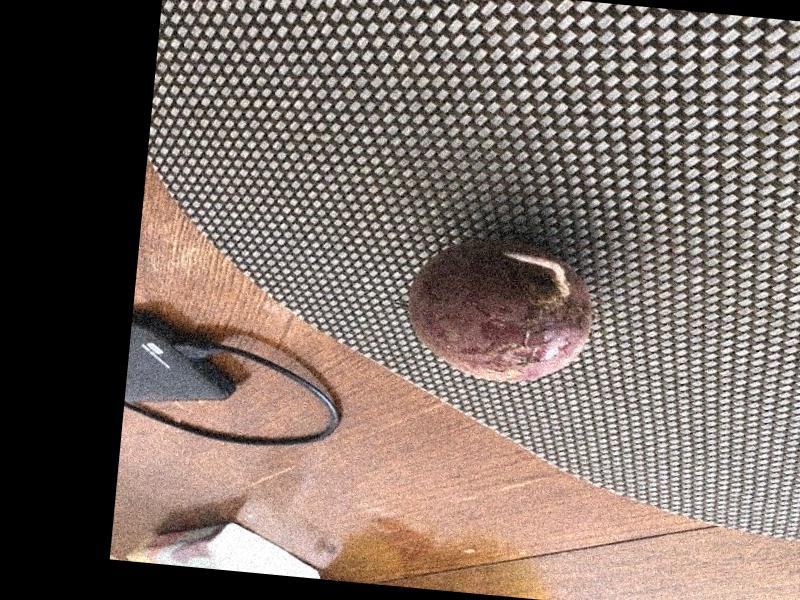Beet: (401, 232, 597, 388)
